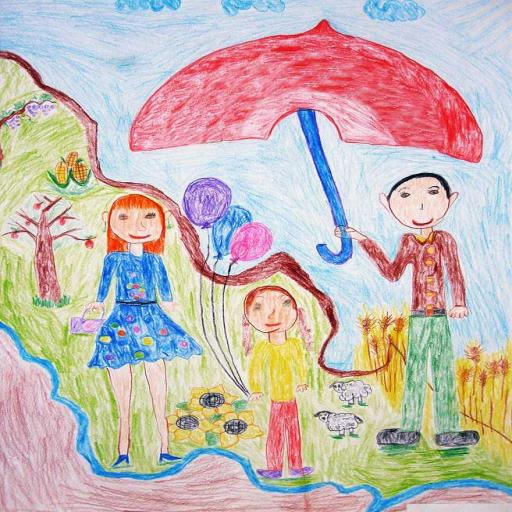person: (86, 186, 201, 472), (365, 166, 477, 459), (231, 281, 316, 482)
